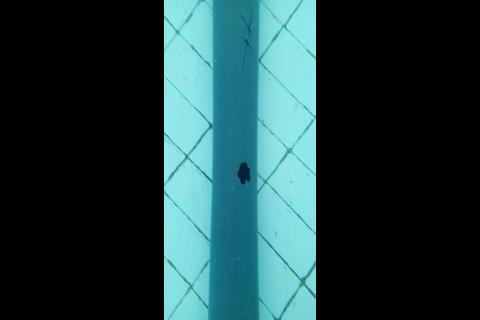kebocoran: (236, 161, 251, 185)
keretakan: (239, 10, 254, 69)
